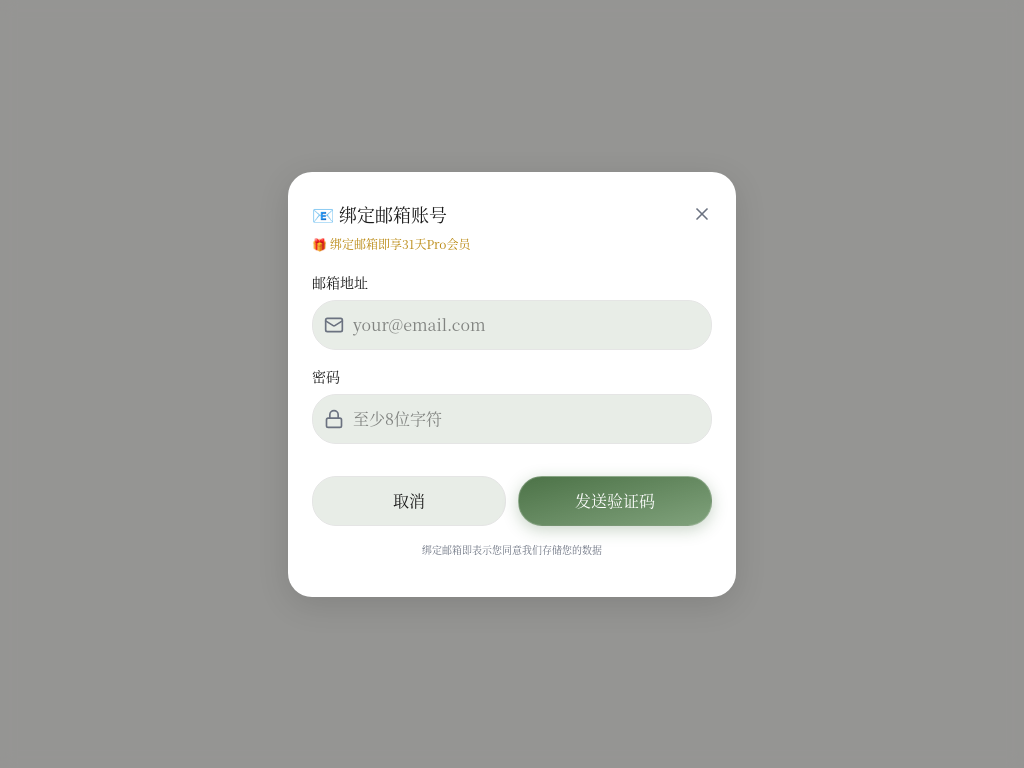
Scenario: AuthModal — 注册步骤 1：密码强度验证 › 密码无字母 → 显示「密码必须包含字母」
Type "test@test.com" into the field with placeholder "your@email.com" at (512, 324), box [312,300,712,350]
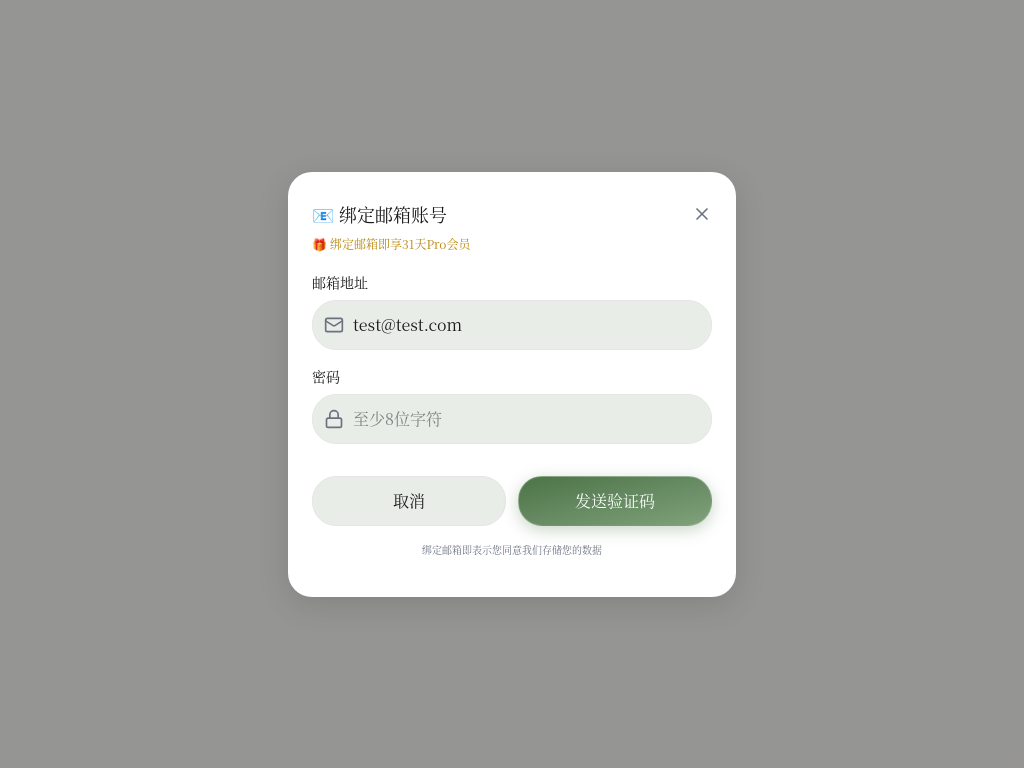
Type "12345678" into the password field with placeholder "至少8位字符" at (512, 418), box [312,394,712,444]
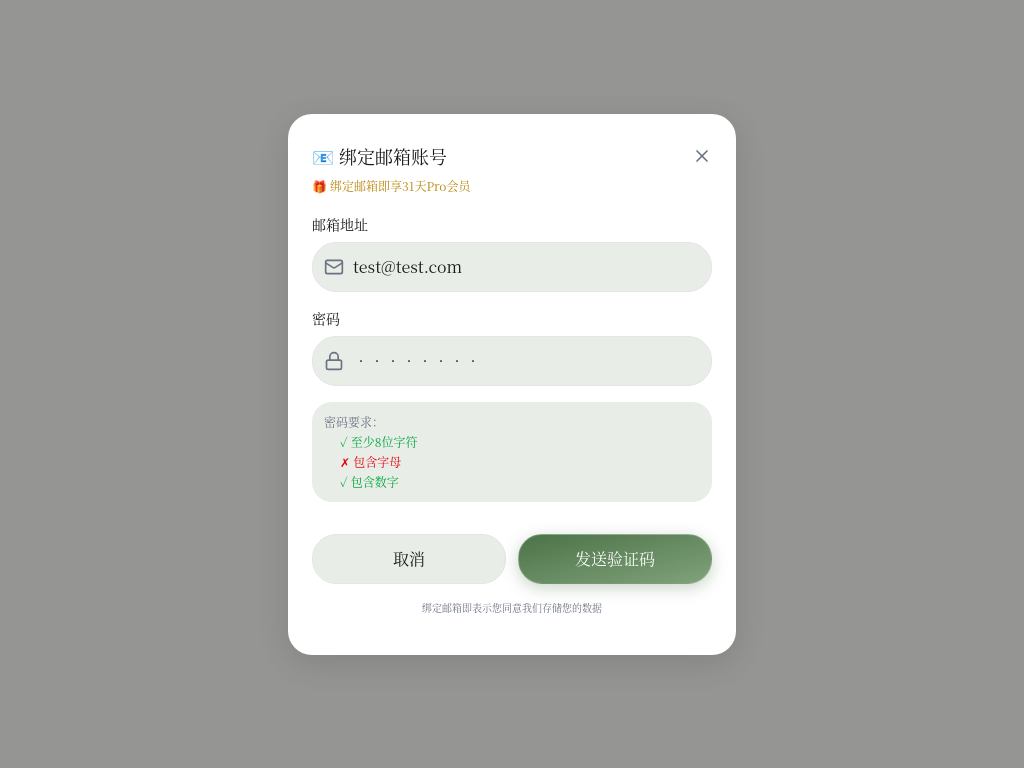
Click the button "发送验证码" at (615, 558), box [518,534,712,584]
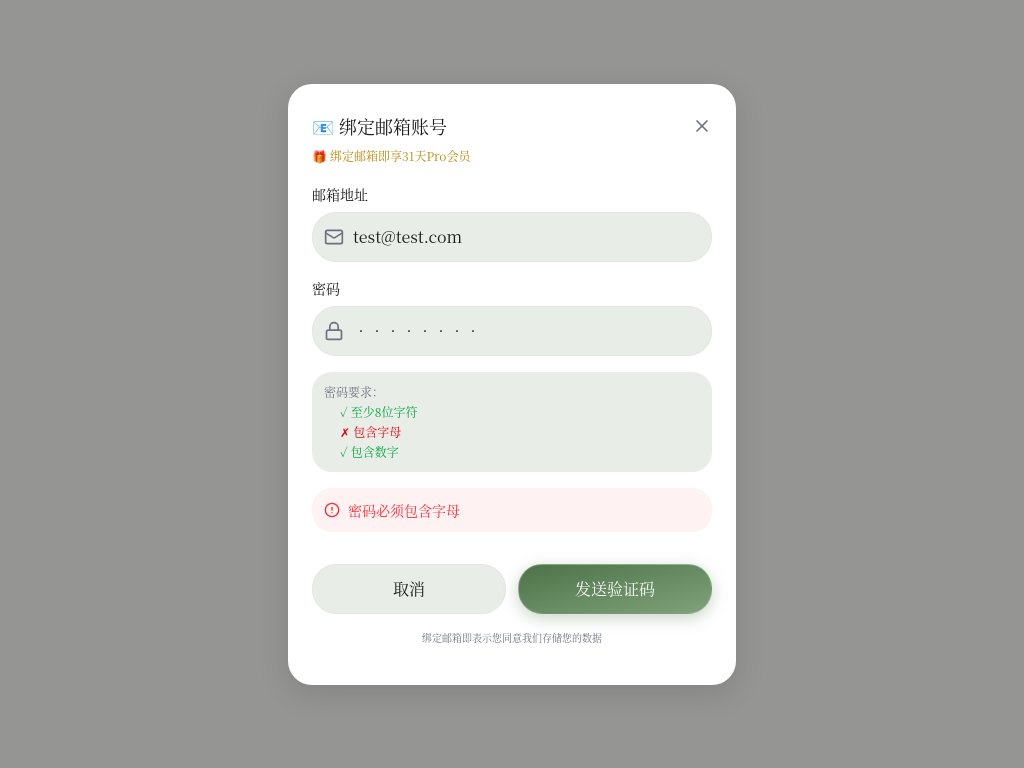
Now the text "密码必须包含字母" is shown, box [312,488,712,532]
